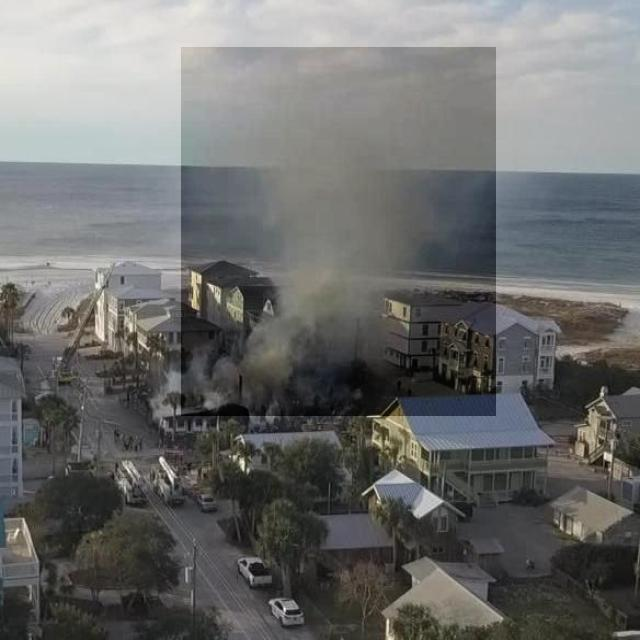Smoke: (181, 47, 496, 416)
